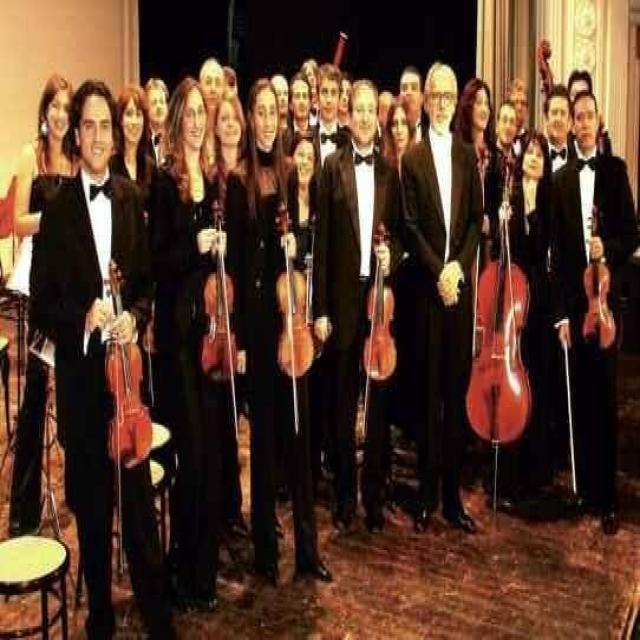cello: (464, 158, 536, 448)
violin: (100, 256, 154, 468), (198, 203, 240, 383), (274, 209, 317, 382), (364, 227, 400, 385), (583, 202, 620, 350)
